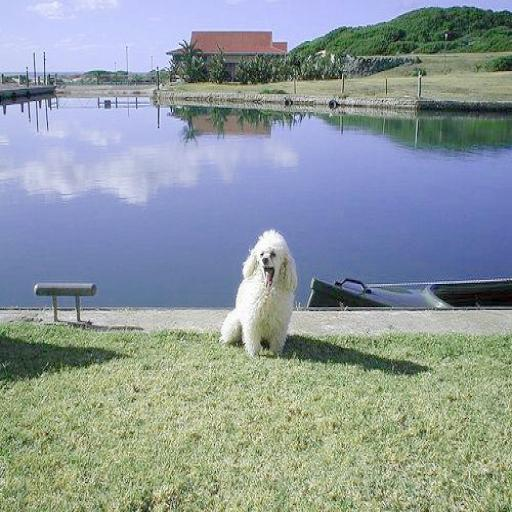dog_face: (240, 229, 299, 290)
